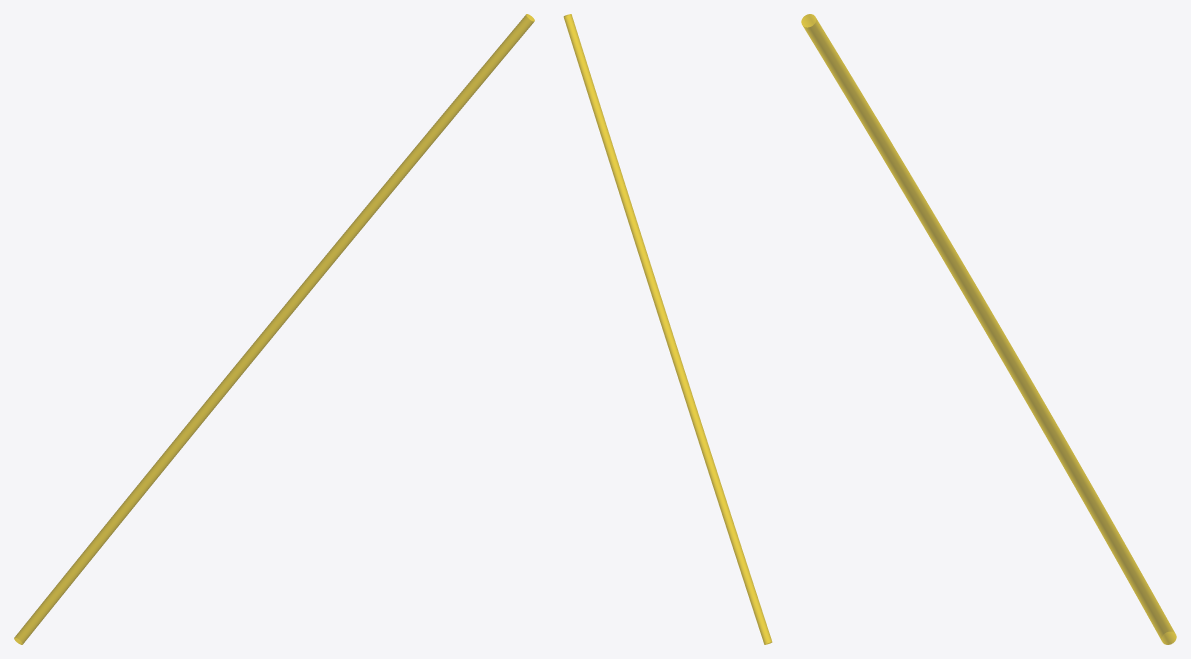
File: Event_31209032_track_0.fbx
3 renders of one model, left to right at view 1: azimuth 30°, elevation 25°; view 2: azimuth 150°, elevation 25°; view 3: azimuth 270°, elevation 25°, orthographic. The views are drawn at different scales.
Parts seen in each view (by area): view 1: Model; view 2: Model; view 3: Model.
Part boxes in pixels (bbox=[...]): Model: bbox=[14, 14, 534, 644]; Model: bbox=[563, 14, 772, 644]; Model: bbox=[801, 14, 1176, 644].
Size of the model in its own units: 1.65 by 2.51 by 0.9571.
